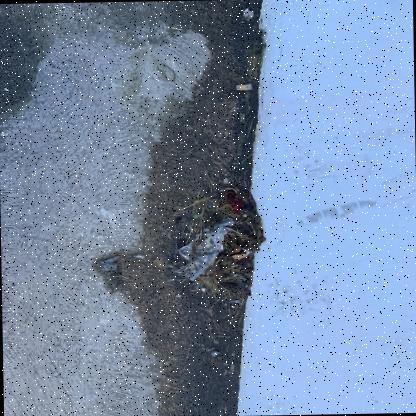Cigarette: (235, 83, 252, 89)
Plastic film: (173, 218, 238, 281)
Unlabeled litter: (225, 193, 243, 214), (220, 244, 223, 249)
